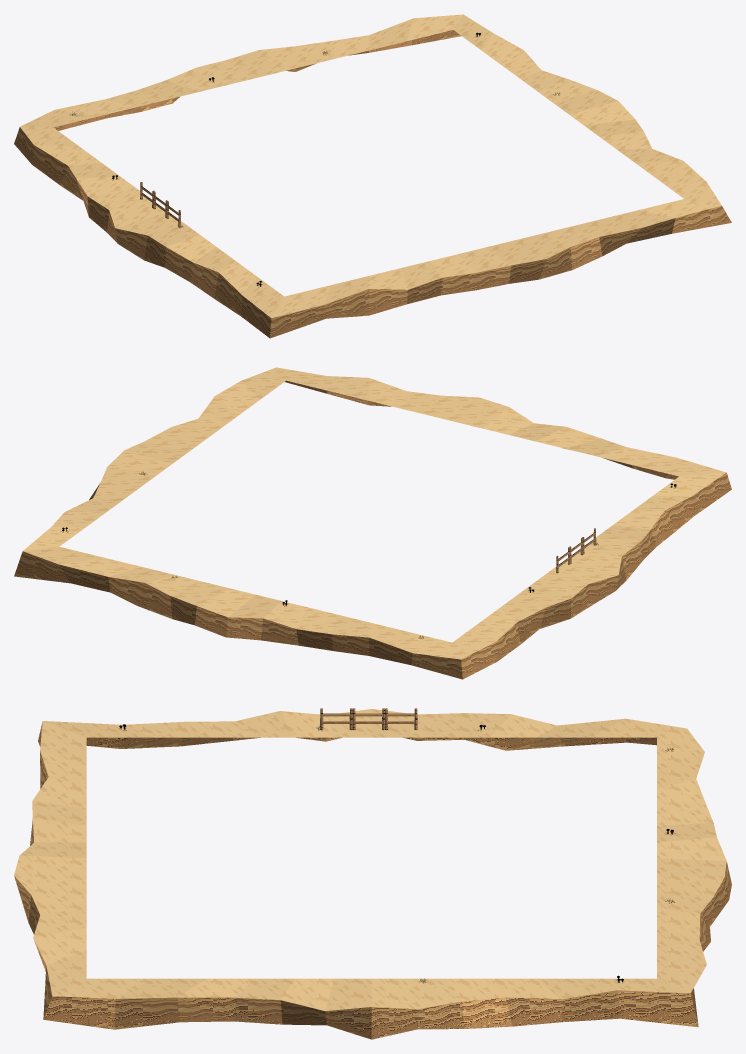
File: entorno_16.fbx
The picture shows the model from 3 angles, top to bottom: view 1: azimuth 30°, elevation 25°; view 2: azimuth 150°, elevation 25°; view 3: azimuth 270°, elevation 25°; orthographic projection. The views are drawn at different scales.
Parts seen in each view (by area): view 1: deserto_entorno_16; view 2: deserto_entorno_16; view 3: deserto_entorno_16.
Boxes of the visible parts, x1=… form: deserto_entorno_16: x1=14, y1=14, x2=731, y2=338; deserto_entorno_16: x1=14, y1=367, x2=731, y2=679; deserto_entorno_16: x1=14, y1=708, x2=731, y2=1039.
Size of the model in its own units: 2059 by 170 by 2039.
Materials: 7 (5 with a texture image).
